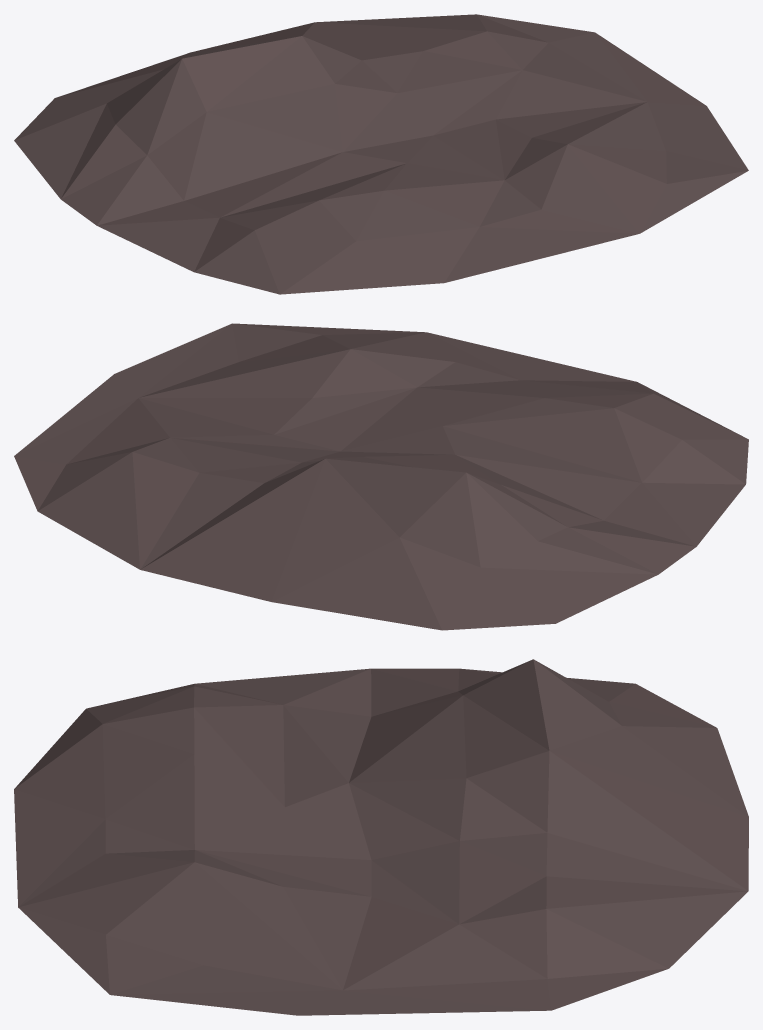
File: TB_D_Env_DuneC_C.FBX
The picture shows the model from 3 angles, top to bottom: view 1: azimuth 30°, elevation 25°; view 2: azimuth 150°, elevation 25°; view 3: azimuth 270°, elevation 25°; orthographic projection. The views are drawn at different scales.
Parts seen in each view (by area): view 1: TB_D_Env_DuneC_C; view 2: TB_D_Env_DuneC_C; view 3: TB_D_Env_DuneC_C.
Part boxes in pixels (box(x1,y1,x2,y2)): TB_D_Env_DuneC_C: box(14, 14, 748, 294); TB_D_Env_DuneC_C: box(14, 323, 748, 630); TB_D_Env_DuneC_C: box(14, 659, 748, 1015).
Size of the model in its own units: 15.72 by 2.11 by 14.07.
